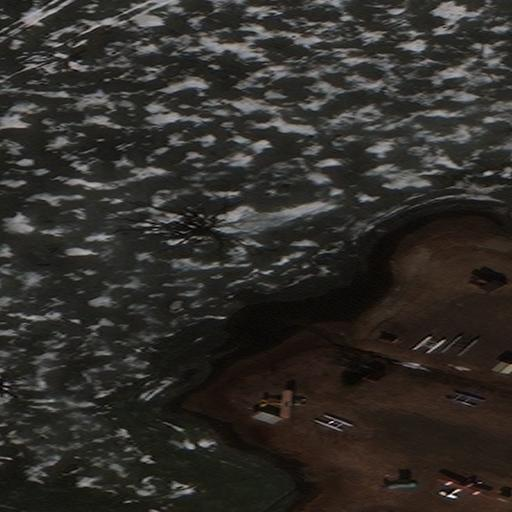Small Civil Transport: (259, 389, 301, 418), (437, 478, 488, 498)
